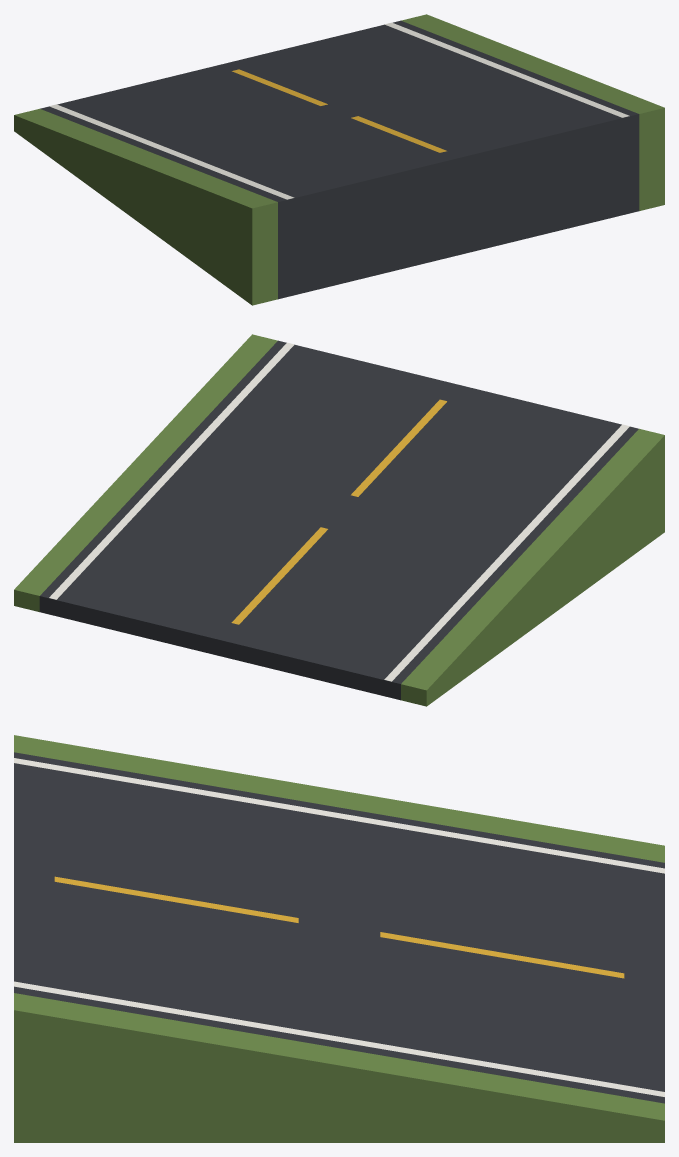
Rendered from Road_2Lane_NoSidewalk_Slope_Up_8m.glb.
The picture shows the model from 3 angles, top to bottom: view 1: azimuth 30°, elevation 25°; view 2: azimuth 150°, elevation 25°; view 3: azimuth 270°, elevation 25°; orthographic projection. The views are drawn at different scales.
Parts seen in each view (by area): view 1: Road_2Lane_NoSidewalk_Slope_Up_8m_Asphalt, Road_2Lane_NoSidewalk_Slope_Up_8m_Grass-edge, Road_2Lane_NoSidewalk_Slope_Up_8m_PaintWhite, Road_2Lane_NoSidewalk_Slope_Up_8m_PaintYellow; view 2: Road_2Lane_NoSidewalk_Slope_Up_8m_Asphalt, Road_2Lane_NoSidewalk_Slope_Up_8m_Grass-edge, Road_2Lane_NoSidewalk_Slope_Up_8m_PaintWhite, Road_2Lane_NoSidewalk_Slope_Up_8m_PaintYellow; view 3: Road_2Lane_NoSidewalk_Slope_Up_8m_Asphalt, Road_2Lane_NoSidewalk_Slope_Up_8m_Grass-edge, Road_2Lane_NoSidewalk_Slope_Up_8m_PaintWhite, Road_2Lane_NoSidewalk_Slope_Up_8m_PaintYellow.
Part boxes in pixels (box(x1,y1,x2,y2)): Road_2Lane_NoSidewalk_Slope_Up_8m_Asphalt: box(40, 20, 639, 299); Road_2Lane_NoSidewalk_Slope_Up_8m_Grass-edge: box(14, 14, 664, 305); Road_2Lane_NoSidewalk_Slope_Up_8m_PaintWhite: box(49, 22, 629, 199); Road_2Lane_NoSidewalk_Slope_Up_8m_PaintYellow: box(232, 69, 446, 152); Road_2Lane_NoSidewalk_Slope_Up_8m_Asphalt: box(39, 340, 638, 700); Road_2Lane_NoSidewalk_Slope_Up_8m_Grass-edge: box(14, 334, 664, 706); Road_2Lane_NoSidewalk_Slope_Up_8m_PaintWhite: box(49, 342, 629, 681); Road_2Lane_NoSidewalk_Slope_Up_8m_PaintYellow: box(231, 399, 446, 624); Road_2Lane_NoSidewalk_Slope_Up_8m_Asphalt: box(14, 752, 664, 1103); Road_2Lane_NoSidewalk_Slope_Up_8m_Grass-edge: box(14, 735, 664, 1142); Road_2Lane_NoSidewalk_Slope_Up_8m_PaintWhite: box(14, 758, 664, 1096); Road_2Lane_NoSidewalk_Slope_Up_8m_PaintYellow: box(54, 876, 624, 978).
Bounding box in the file's own units: 8 × 1.81 × 8.
